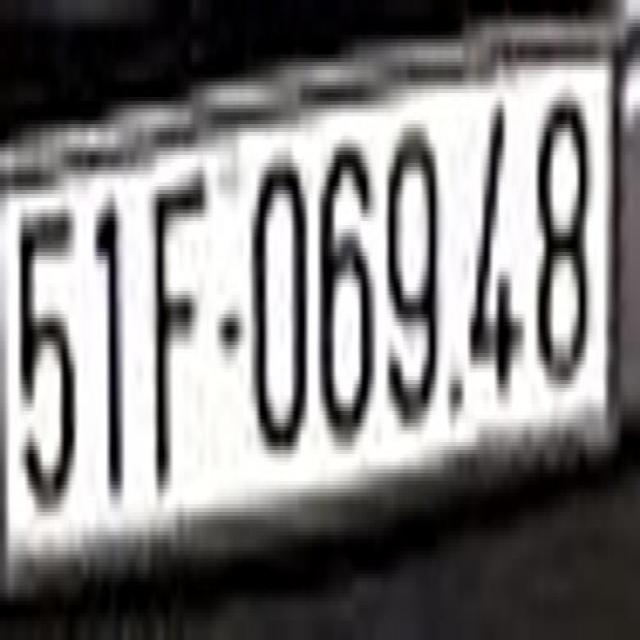0: (247, 151, 308, 462)
1: (92, 194, 123, 520)
4: (464, 97, 526, 399)
5: (17, 198, 82, 516)
6: (318, 143, 377, 454)
8: (532, 101, 590, 384)
9: (385, 124, 436, 438)
F: (150, 174, 208, 500)
